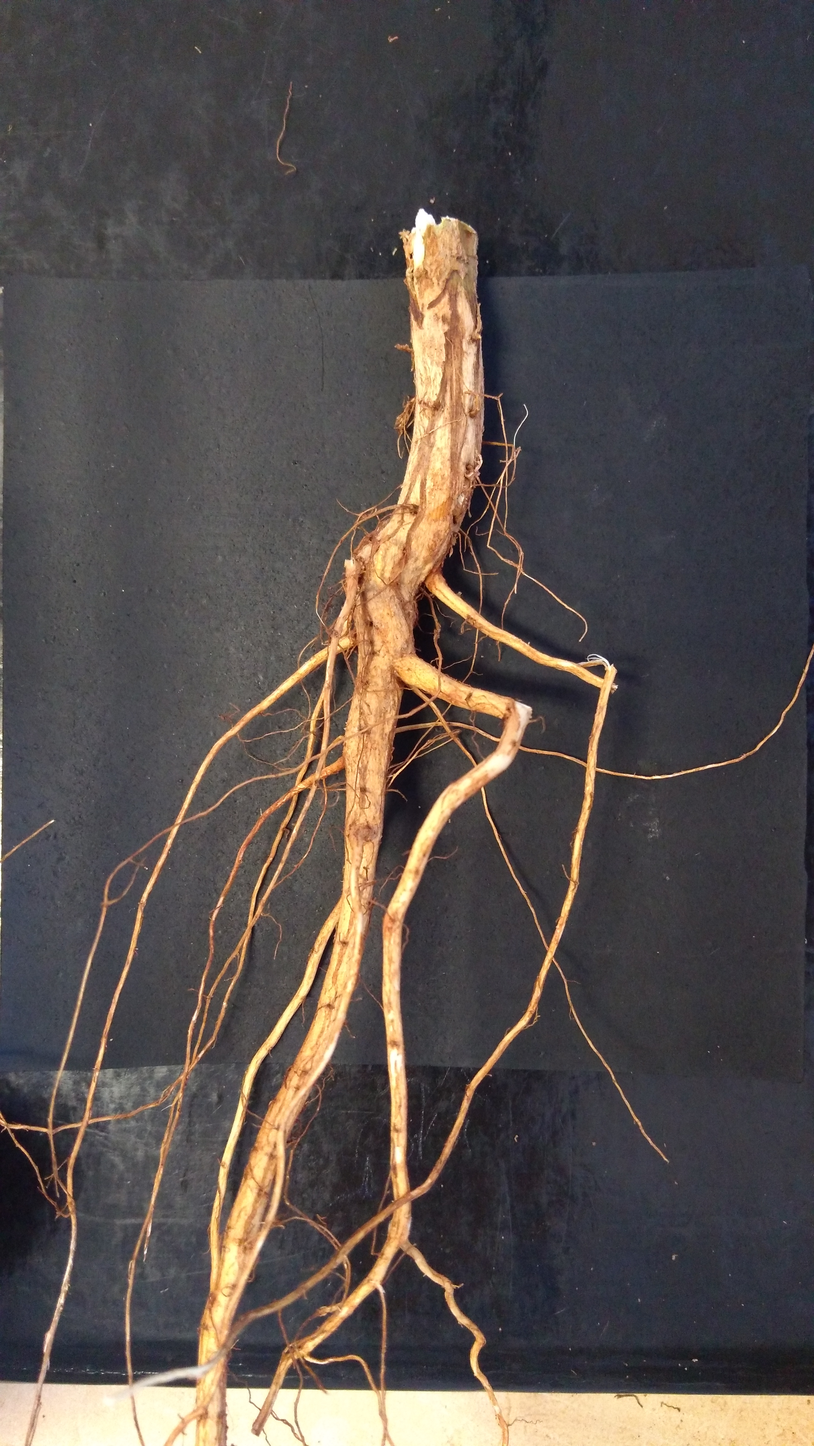nodule: (394, 343, 410, 352), (404, 266, 414, 278)
